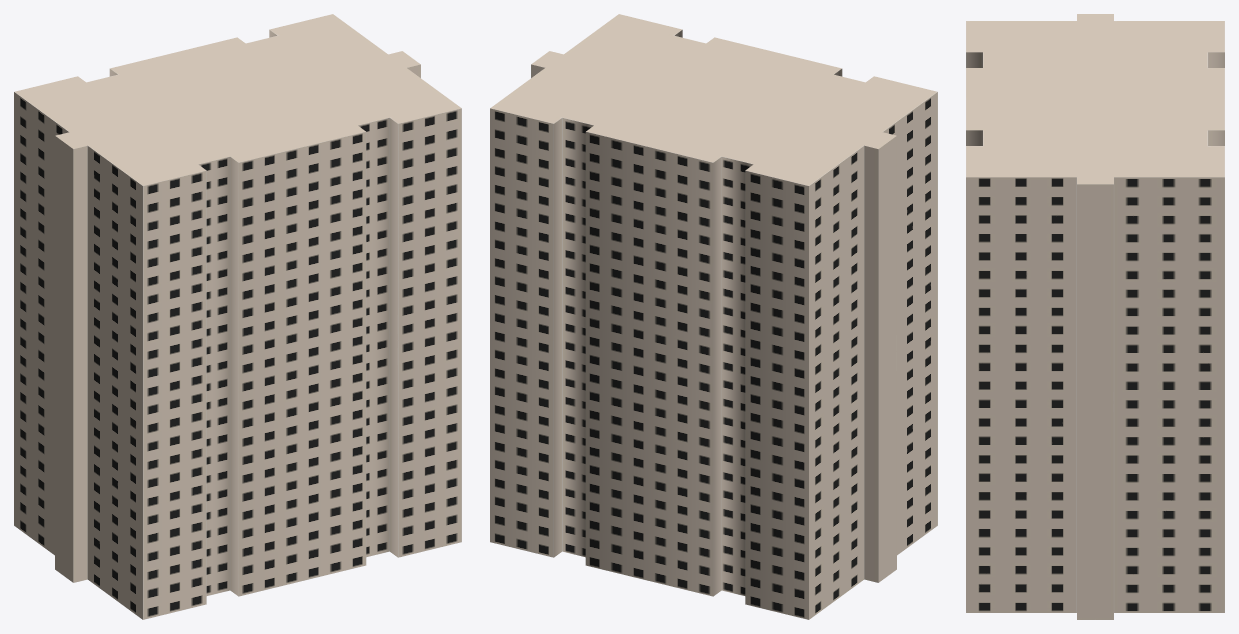
File: Soviet_BlockHouse.fbx
3 renders of one model, left to right at view 1: azimuth 30°, elevation 25°; view 2: azimuth 150°, elevation 25°; view 3: azimuth 270°, elevation 25°, orthographic.
Visible parts, largest first — view 1: Soviet_BlockHouse; view 2: Soviet_BlockHouse; view 3: Soviet_BlockHouse.
Part boxes in pixels (left/top/right/bottom): Soviet_BlockHouse: left=14, top=14, right=461, bottom=619; Soviet_BlockHouse: left=490, top=14, right=937, bottom=619; Soviet_BlockHouse: left=966, top=14, right=1224, bottom=619.
Bounding box in the file's own units: 14.28 × 17.04 × 9.17.
Materials: 1 (1 with a texture image).
